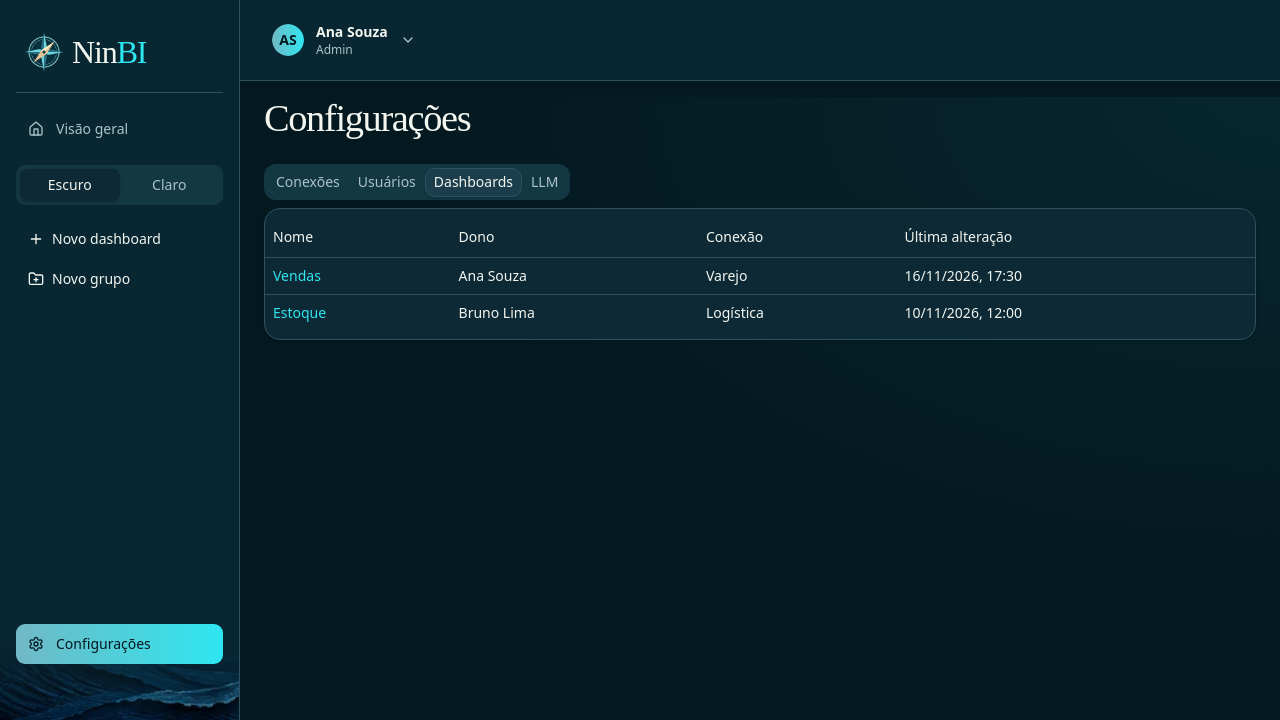
Test case: DashboardsTab › DASH-21 clicar no dashboard da aba Dashboards abre o dashboard com Editar
The image size is (1280, 720).
What coordinates should you click on to do the following:
click the link "Estoque"
I would click on:
 (300, 312)
Its box is [273,302,326,322].
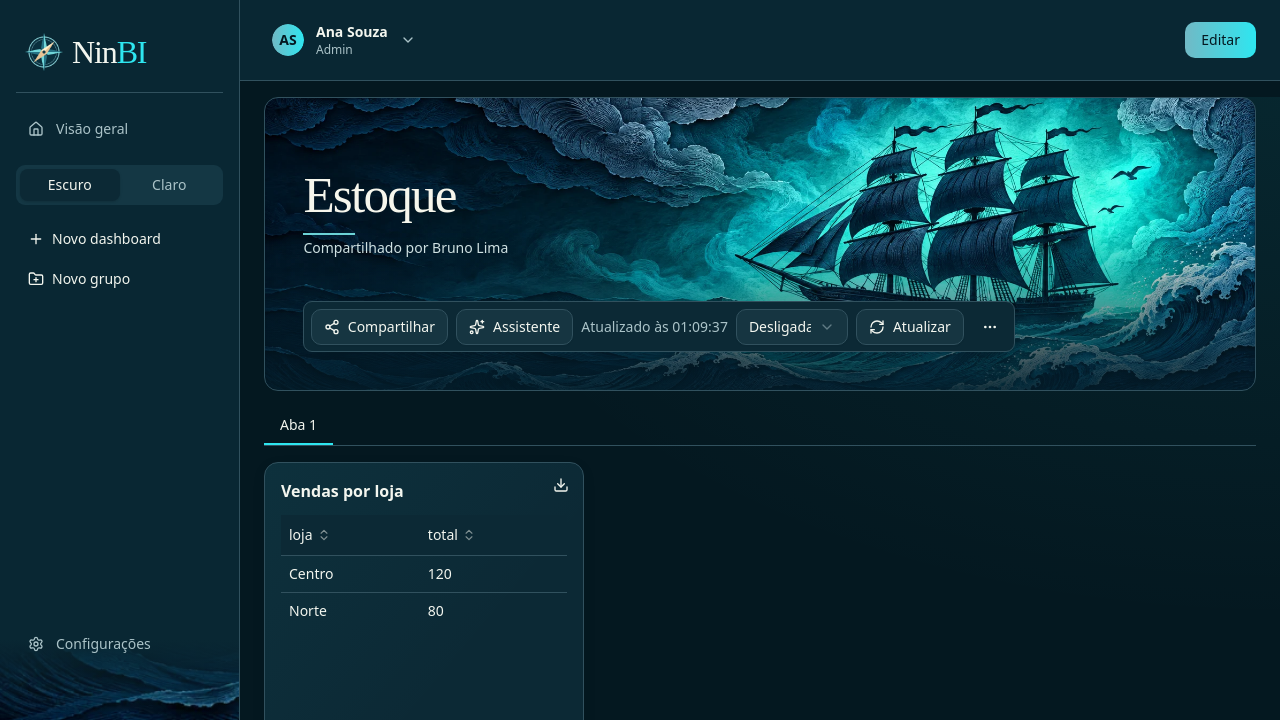
Check: the button "Editar" is shown, box [1185,22,1256,58]
